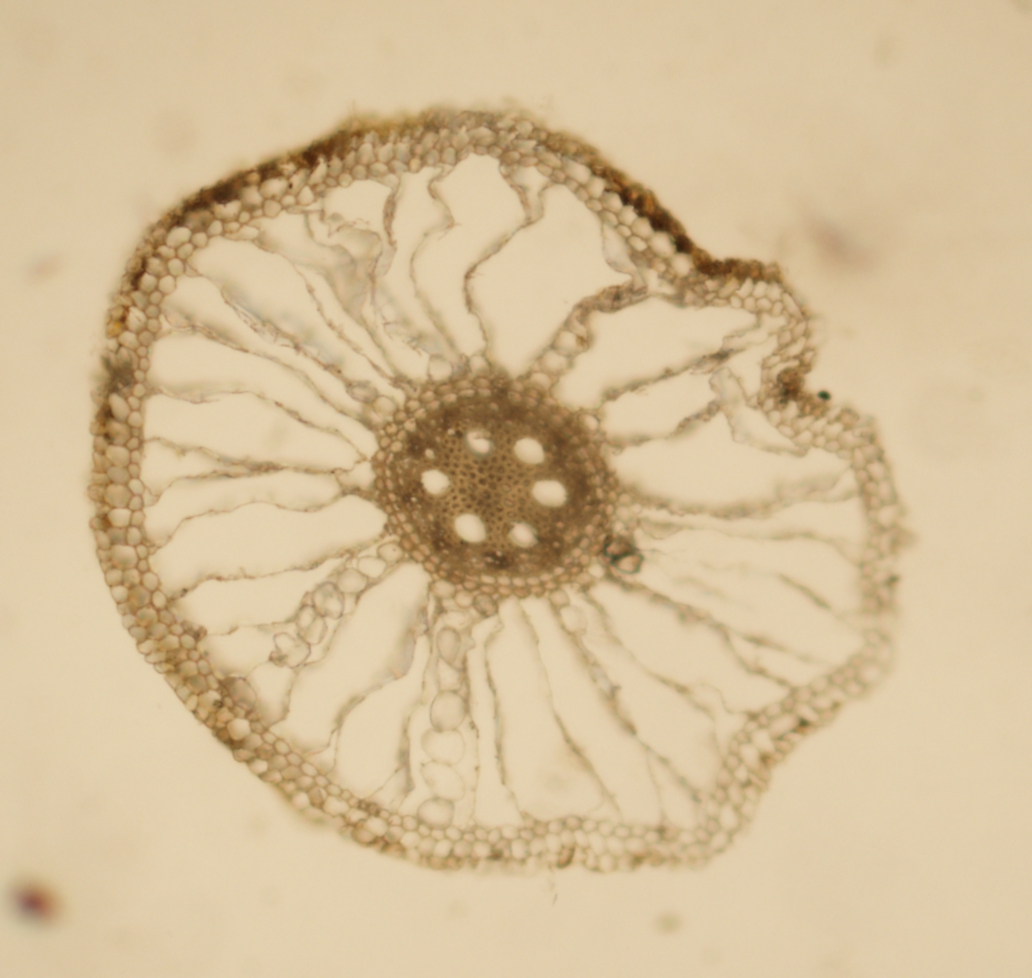lm: (532, 479, 567, 508), (454, 514, 485, 542), (508, 520, 539, 548), (513, 437, 545, 464), (464, 428, 492, 456), (421, 469, 450, 496)
